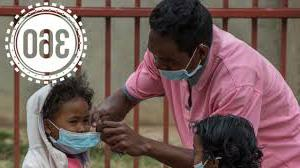mask_weared_incorrect: (60, 110, 90, 146), (150, 45, 178, 83), (190, 138, 207, 167)
